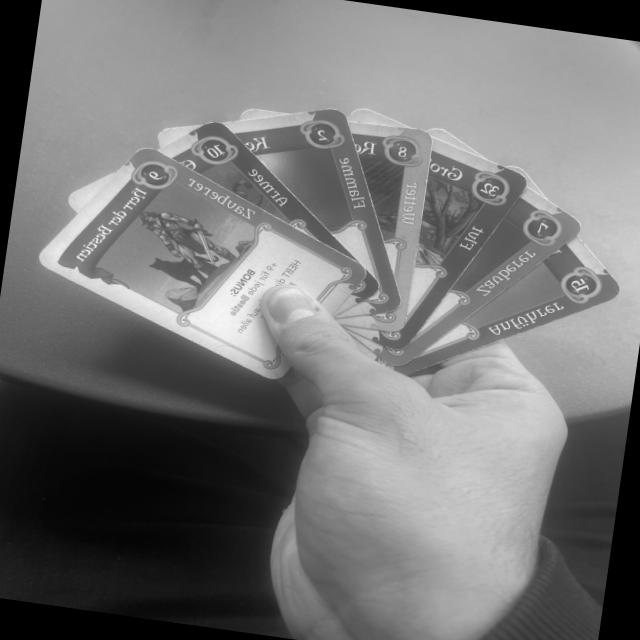Beast Master: (28, 145, 369, 384)
Candle: (225, 108, 399, 289)
Collector: (411, 187, 585, 355)
Elven Archers: (155, 118, 354, 259)
Empress: (403, 237, 624, 377)
Great Flood: (405, 137, 531, 336)
Rainstorm: (348, 121, 430, 304)
